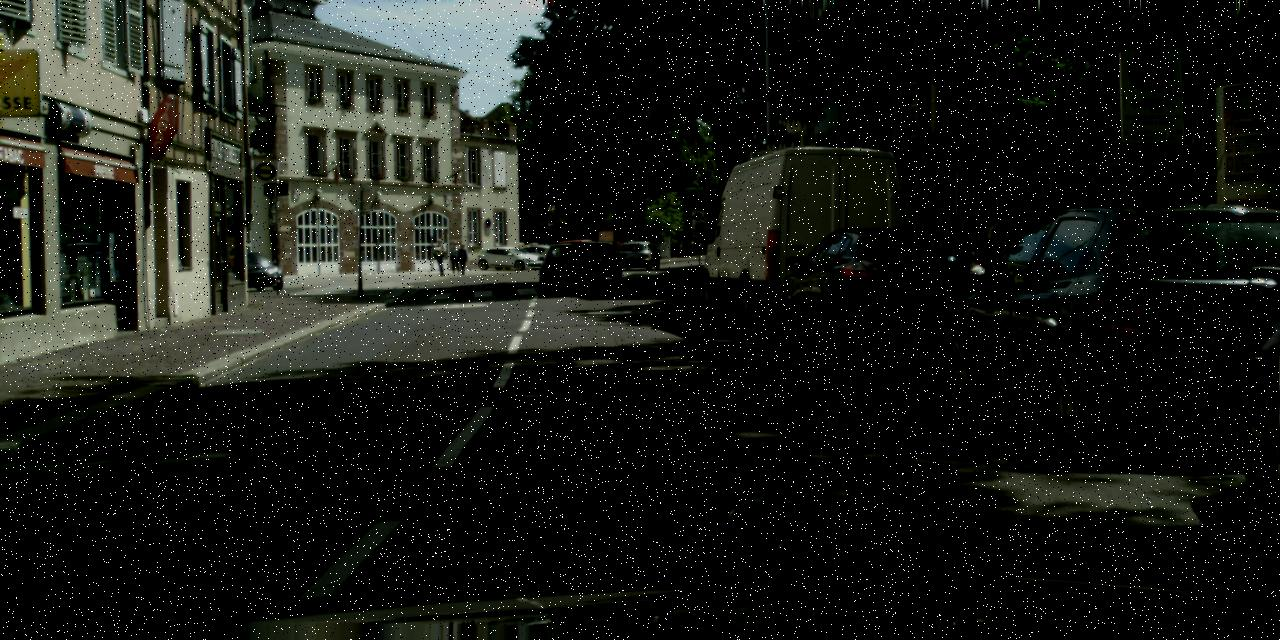ped: (982, 212, 1015, 294), (905, 222, 933, 291), (432, 238, 448, 276), (449, 240, 461, 272), (456, 244, 468, 274), (612, 238, 624, 266)
